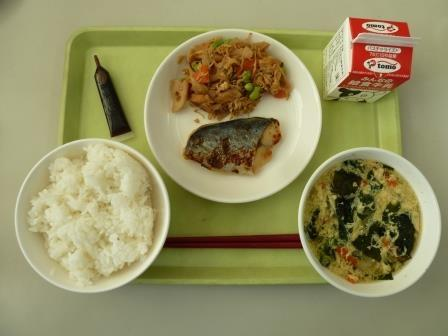Fish: (181, 111, 284, 183)
Milk: (323, 17, 418, 105)
Rice: (15, 140, 161, 285)
Soups: (305, 155, 437, 283)
vegetable based cooked food: (175, 30, 285, 115)
